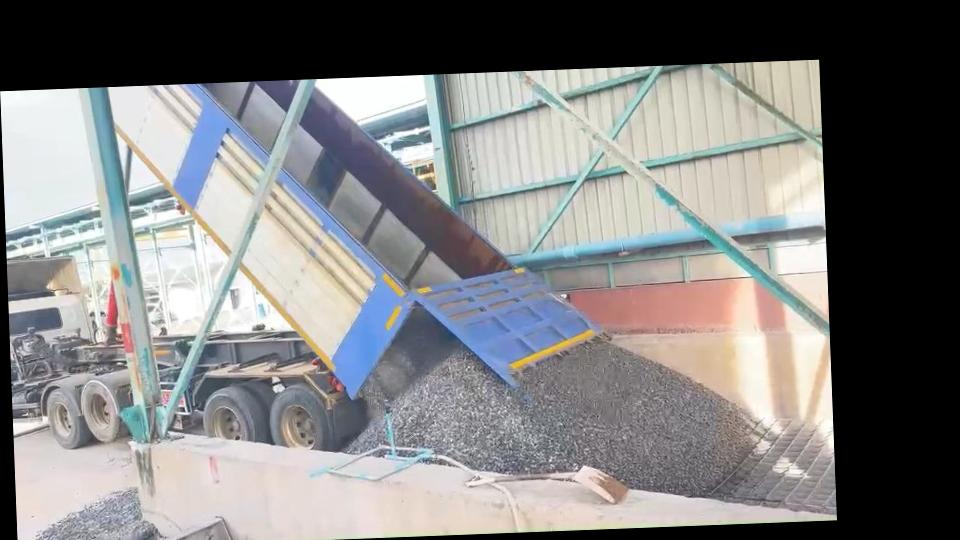gravel: (365, 328, 758, 495), (33, 488, 158, 540), (346, 419, 386, 452)
